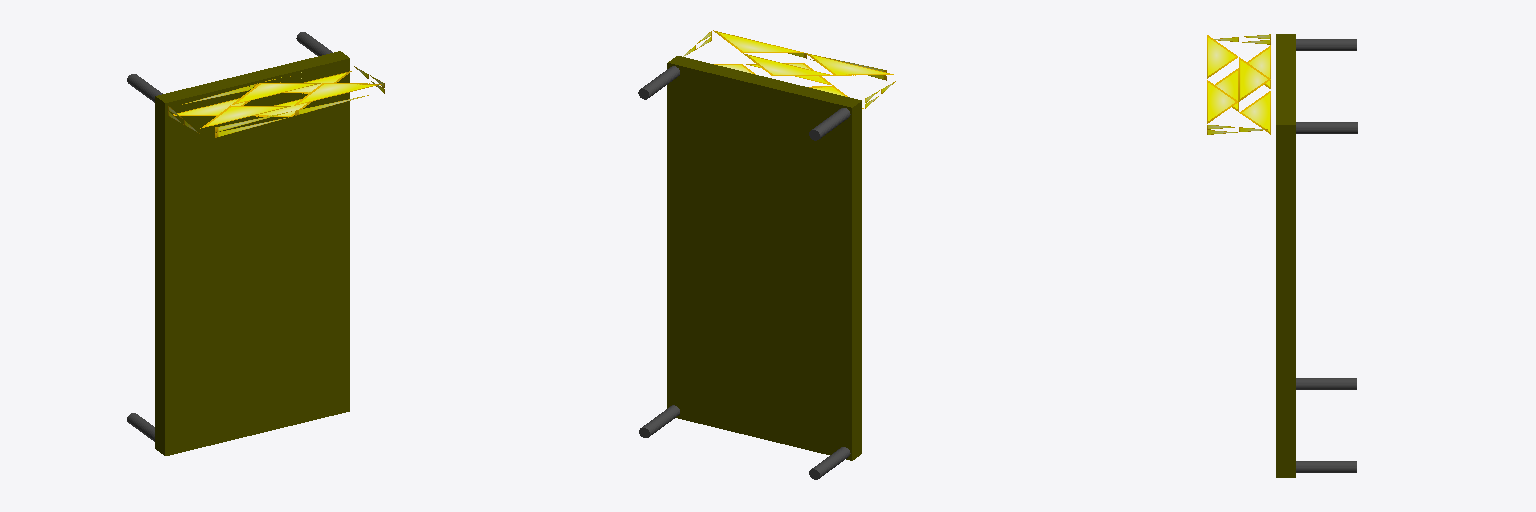
3 views of the same model, side by side, from view 1: azimuth 30°, elevation 25°; view 2: azimuth 150°, elevation 25°; view 3: azimuth 270°, elevation 25° (orthographic).
Parts seen in each view (by area): view 1: Cube.001, Cube.001_Cube.002; view 2: Cube.001, Cube.001_Cube.002, Cylinder, Cylinder.003, Cylinder.002, Cylinder.001; view 3: Cube.001, Cube.001_Cube.002, Cylinder, Cylinder.001, Cylinder.003, Cylinder.002.
Boxes of the visible parts, box(x1,y1,x2,y2) form: Cube.001: box(155, 51, 349, 455); Cube.001_Cube.002: box(168, 66, 384, 137); Cube.001: box(667, 56, 861, 460); Cube.001_Cube.002: box(683, 30, 895, 108); Cylinder: box(638, 66, 679, 99); Cylinder.003: box(809, 108, 850, 140); Cylinder.002: box(809, 447, 850, 479); Cylinder.001: box(639, 405, 679, 437); Cube.001: box(1276, 34, 1295, 477); Cube.001_Cube.002: box(1207, 34, 1270, 134); Cylinder: box(1296, 122, 1357, 133); Cylinder.001: box(1296, 461, 1356, 472); Cylinder.003: box(1296, 39, 1356, 50); Cylinder.002: box(1296, 378, 1356, 389).
Bounding box in the file's own units: 86.08 × 157 × 63.
Materials: 9 (1 with a texture image).